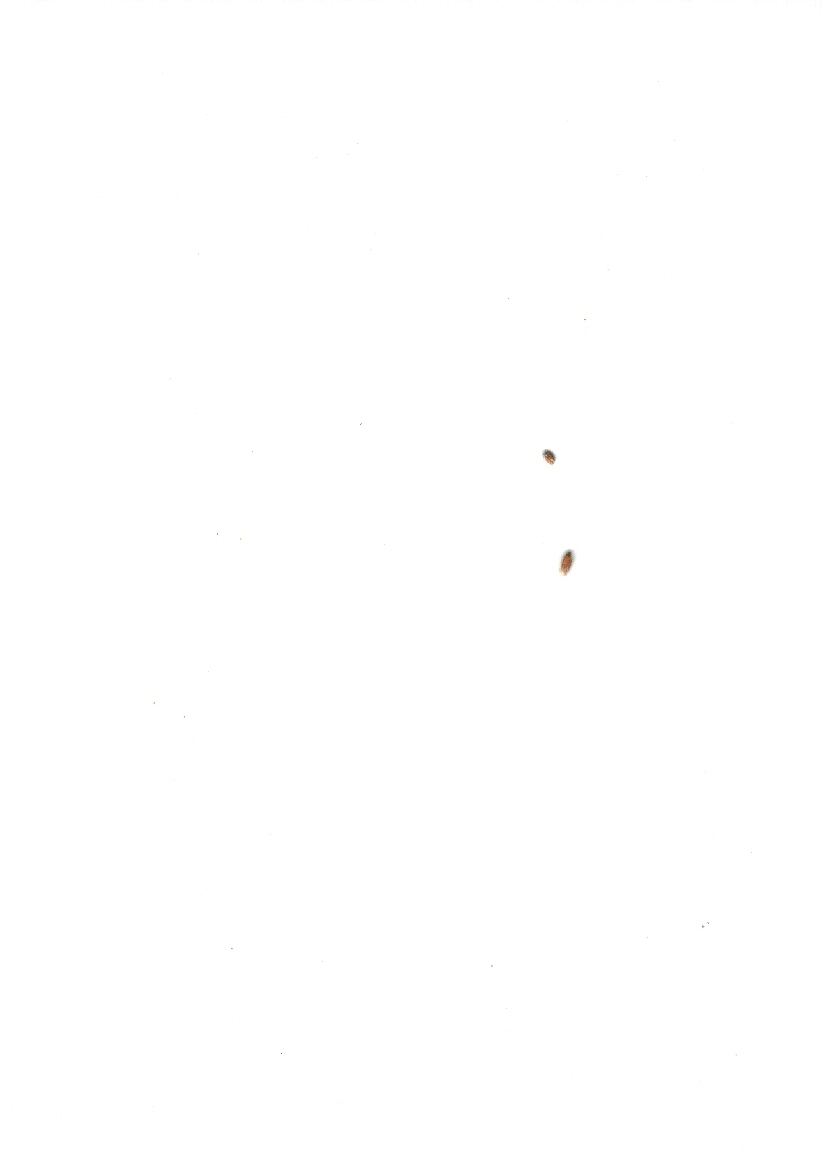grains: (531, 433, 568, 479), (549, 543, 579, 585)
